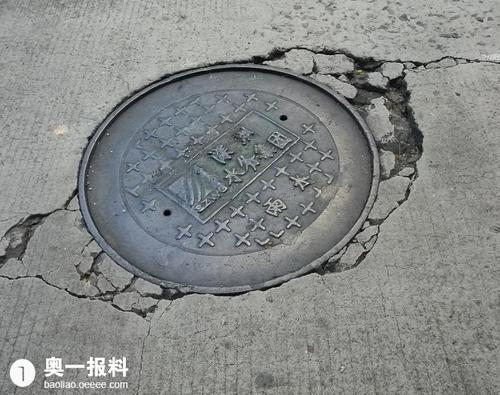circle: (10, 36, 431, 317)
